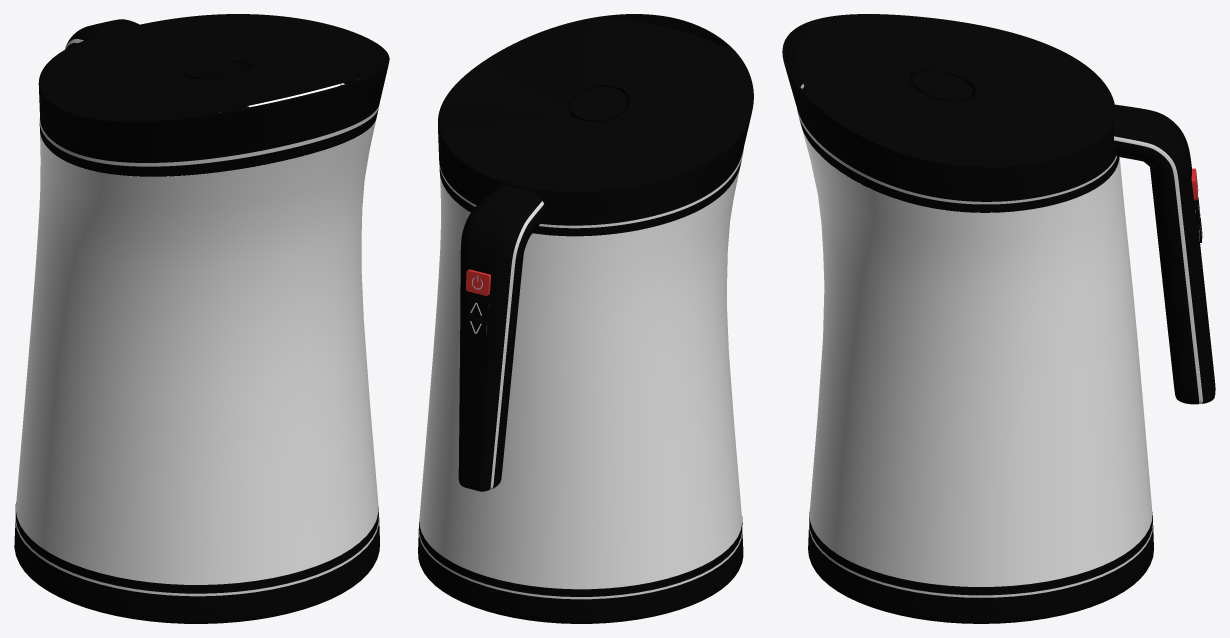
The picture shows the model from 3 angles, left to right: view 1: azimuth 30°, elevation 25°; view 2: azimuth 150°, elevation 25°; view 3: azimuth 270°, elevation 25°; orthographic projection. The views are drawn at different scales.
Parts seen in each view (by area): view 1: tank_0, cap_1, bottom_2, Cylinder_7; view 2: tank_0, cap_1, Cylinder_7, bottom_2, Cylinder.001_8; view 3: tank_0, cap_1, Cylinder_7, bottom_2.
Boxes of the visible parts, x1=… form: tank_0: x1=16, y1=83, x2=378, y2=584; cap_1: x1=38, y1=14, x2=389, y2=176; bottom_2: x1=14, y1=503, x2=379, y2=623; Cylinder_7: x1=65, y1=19, x2=139, y2=49; tank_0: x1=419, y1=168, x2=741, y2=589; cap_1: x1=438, y1=14, x2=753, y2=236; Cylinder_7: x1=458, y1=185, x2=545, y2=491; bottom_2: x1=418, y1=517, x2=743, y2=623; Cylinder.001_8: x1=466, y1=269, x2=490, y2=295; tank_0: x1=802, y1=130, x2=1152, y2=586; cap_1: x1=782, y1=14, x2=1119, y2=212; Cylinder_7: x1=1114, y1=104, x2=1215, y2=404; bottom_2: x1=808, y1=512, x2=1153, y2=623.
Bounding box in the file's own units: 0.0208 × 0.0331 × 0.026.
Materials: 8 (3 with a texture image).
